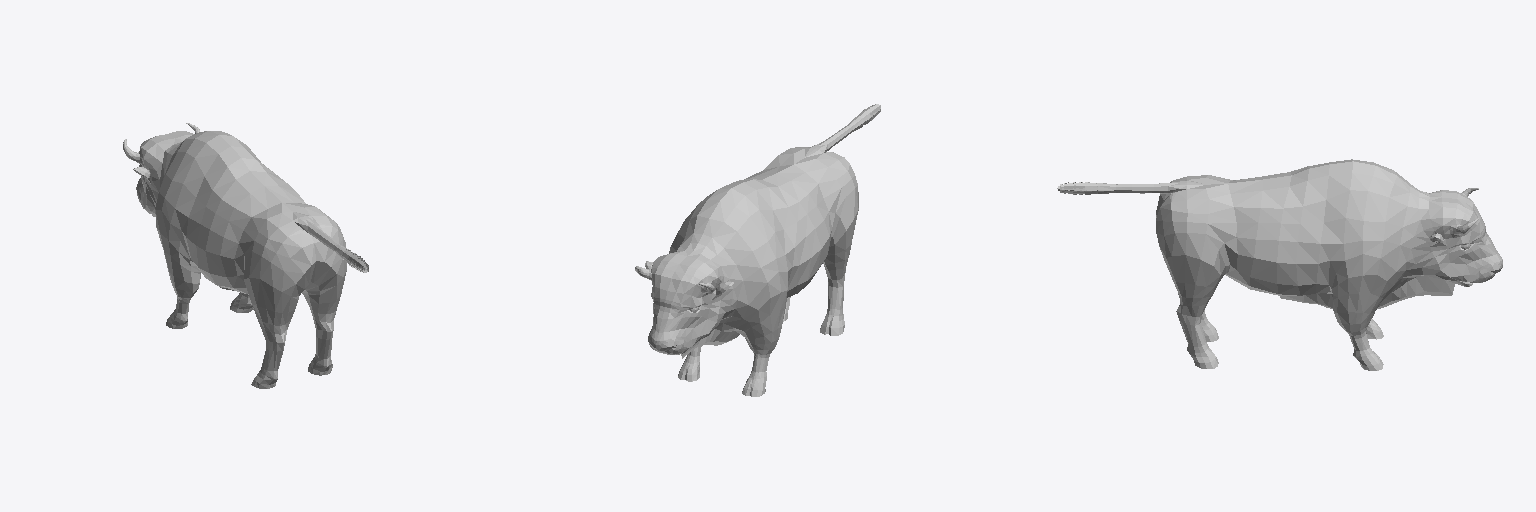
File: wuson.obj
3 views of the same model, side by side, from view 1: azimuth 30°, elevation 25°; view 2: azimuth 150°, elevation 25°; view 3: azimuth 270°, elevation 25° (orthographic).
Visible parts, largest first — view 1: default; view 2: default; view 3: default.
Part boxes in pixels (bbox=[...]): default: bbox=[123, 123, 368, 388]; default: bbox=[635, 104, 880, 396]; default: bbox=[1057, 159, 1502, 370].
Bounding box in the file's own units: 0.92 × 1.52 × 3.24.